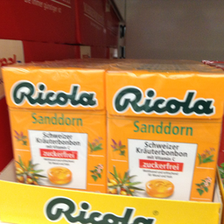candy: (108, 67, 220, 207), (2, 65, 106, 196)
